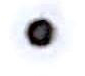cancer: (5, 2, 73, 63)
